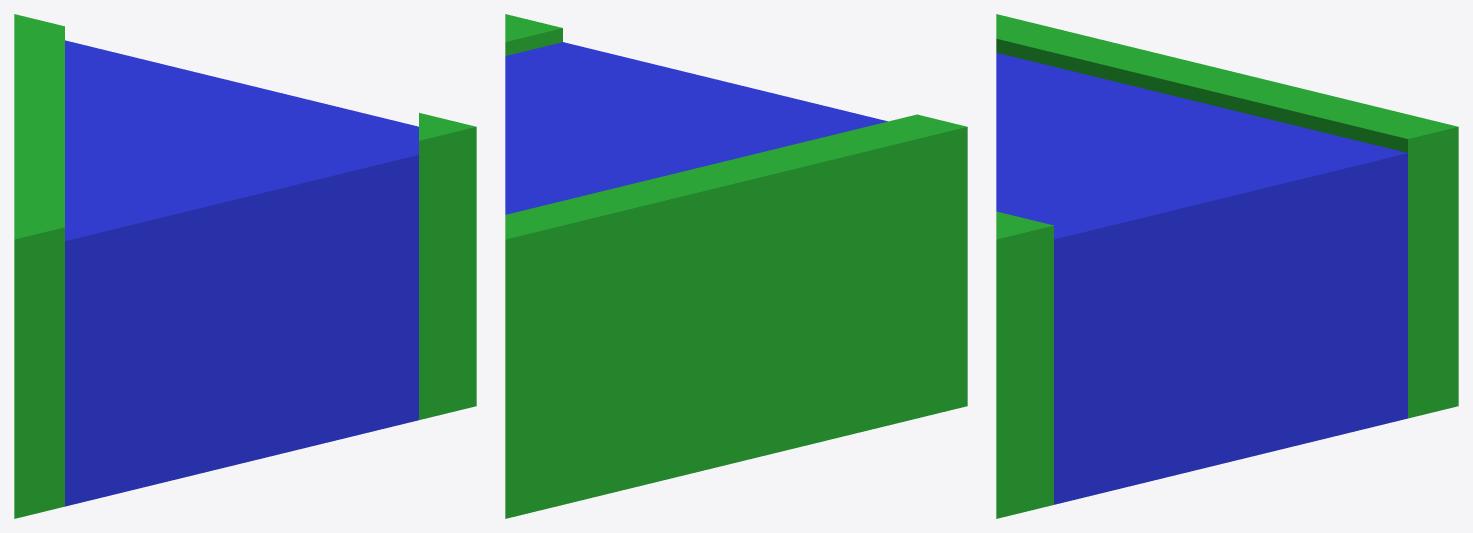
The model's file is river_face.glb.
3 renders of one model, left to right at view 1: azimuth 30°, elevation 25°; view 2: azimuth 150°, elevation 25°; view 3: azimuth 270°, elevation 25°, orthographic.
Parts seen in each view (by area): view 1: river_face; view 2: river_face; view 3: river_face.
Boxes of the visible parts, x1=… form: river_face: x1=14, y1=14, x2=476, y2=518; river_face: x1=505, y1=14, x2=967, y2=518; river_face: x1=996, y1=14, x2=1458, y2=518.
Size of the model in its own units: 0.866 by 0.5 by 0.75.
